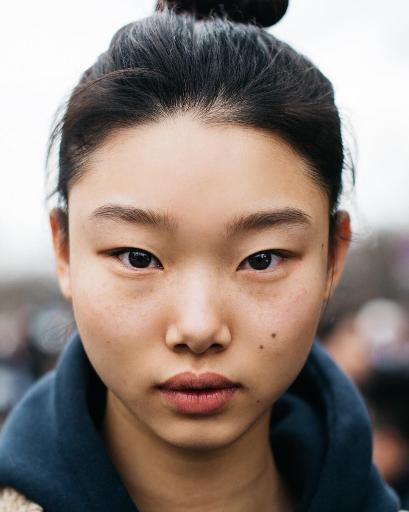left_eye: (237, 249, 301, 283)
left_lip_corner: (235, 377, 251, 399)
right_eye: (99, 248, 167, 282)
right_lip_corner: (151, 377, 167, 401)
